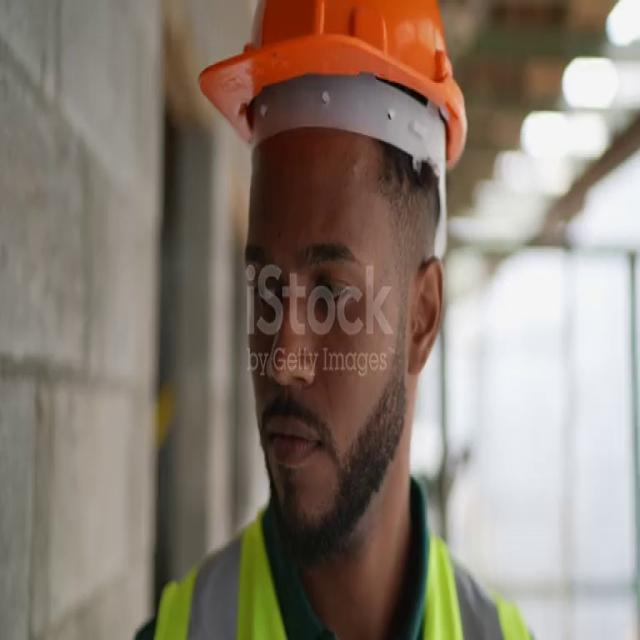capacete: (183, 0, 487, 197)
